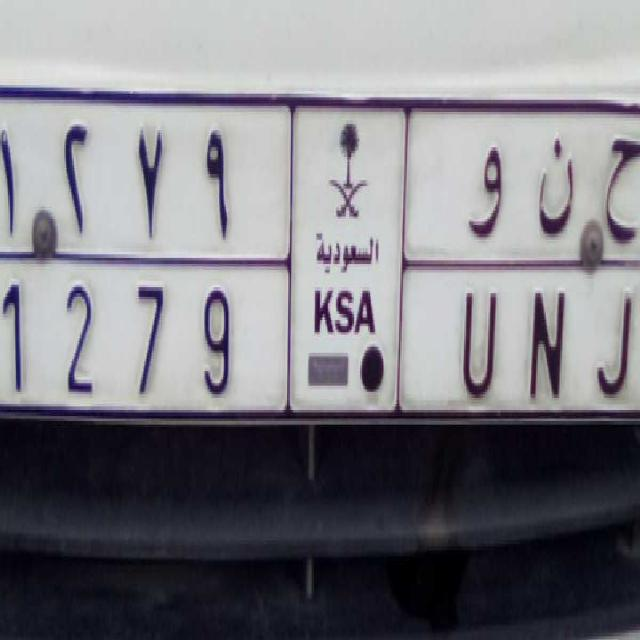license_plate: (0, 247, 640, 438)
